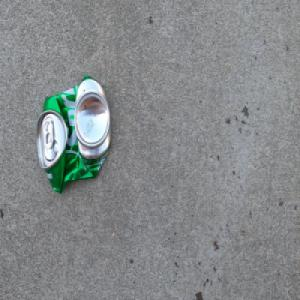SodaCan: (35, 71, 112, 195)
